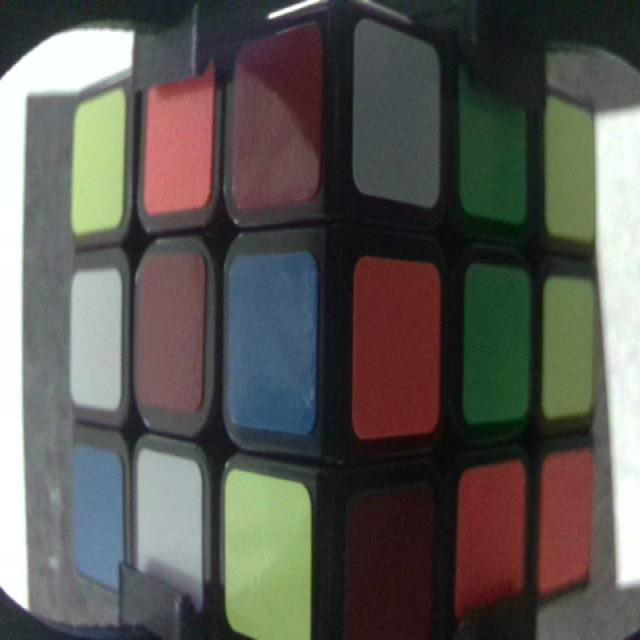b: (228, 259, 314, 433), (72, 444, 128, 584)
g: (455, 46, 534, 222), (466, 263, 536, 422)
o: (355, 259, 438, 436), (460, 472, 530, 624), (142, 65, 210, 215), (551, 468, 599, 586)
r: (238, 30, 321, 201), (349, 494, 434, 640), (138, 254, 207, 406)
w: (350, 15, 434, 207), (138, 450, 205, 606), (69, 270, 121, 406)
y: (226, 472, 314, 640), (70, 88, 126, 228), (546, 93, 596, 244), (544, 282, 594, 416)
